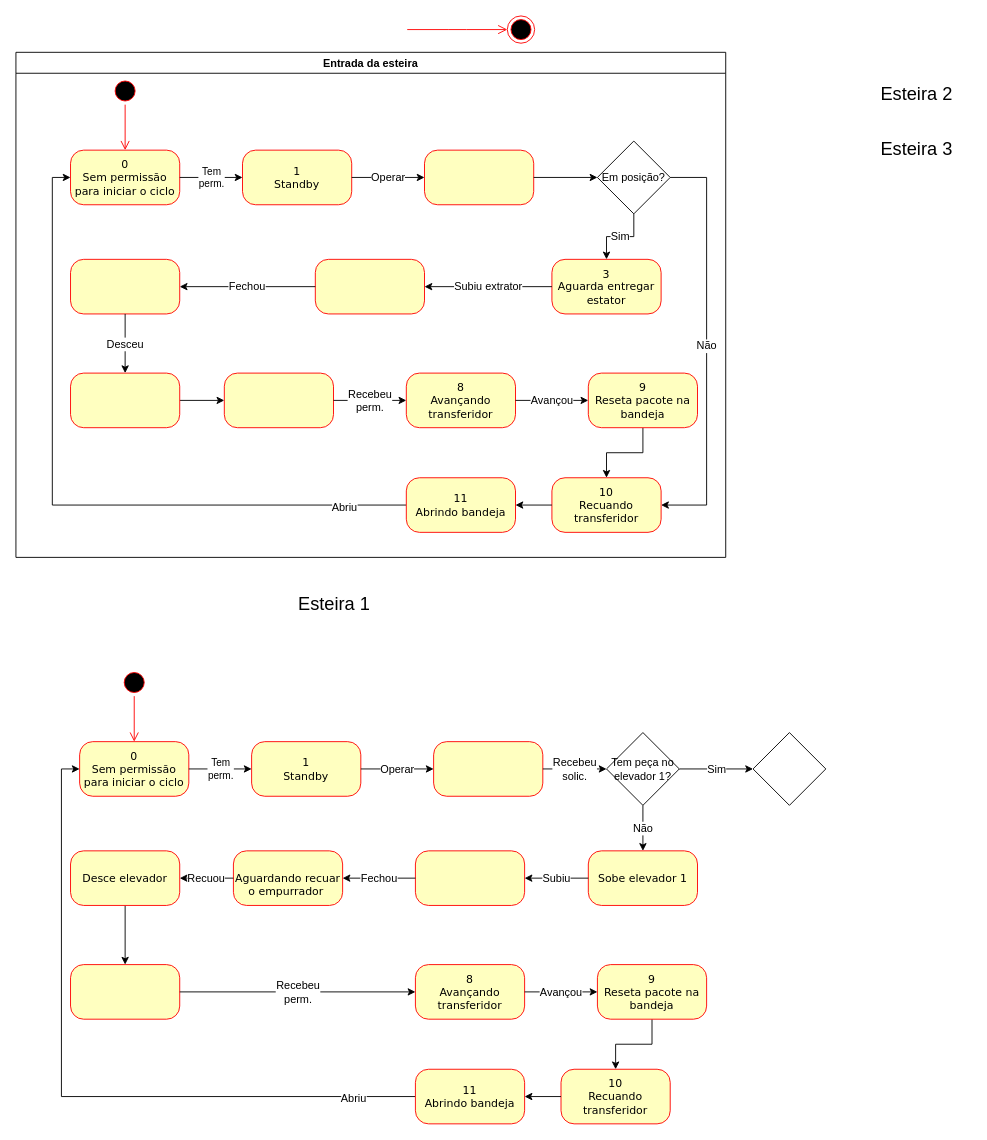
Some shapes in this 987 by 1140 pixel diagram are drawn without their labels. The centre of each missing label's shape, as x and y in pixels:
2 Aguardando solicitação da gramp.: point (479, 177)
2 Aguardando solicitação do transferidor: point (488, 768)
4 Fechando bandejas: point (369, 286)
5 Aguardando extrator descer: point (125, 286)
6 Seta pacote na bendeja e solicita para empurrar: point (125, 400)
7 Aguardando perm. elev. 1: point (278, 400)
Aguardando receber peça: point (470, 877)
Aguardando sair a peça do elevador: point (125, 991)
Tem permissão elev 2?: point (789, 768)
